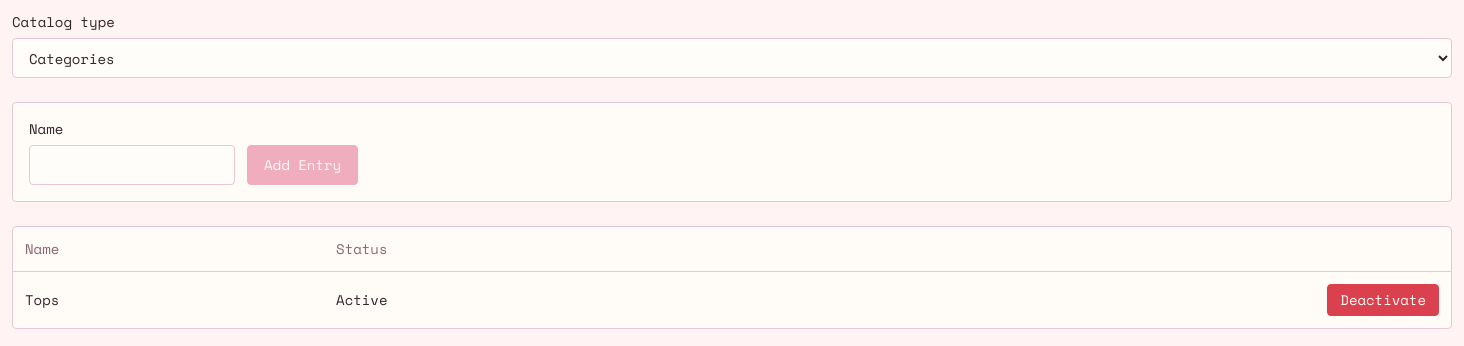
Test: CatalogManager › shows a parent-category select and requires it for Subcategories
The image size is (1464, 346).
Expected: the text "Tops" is shown, [13,272,324,328]
Select "Subcategories" in the dropdown labelled "Catalog type" at [732, 58], box [12,38,1452,78]
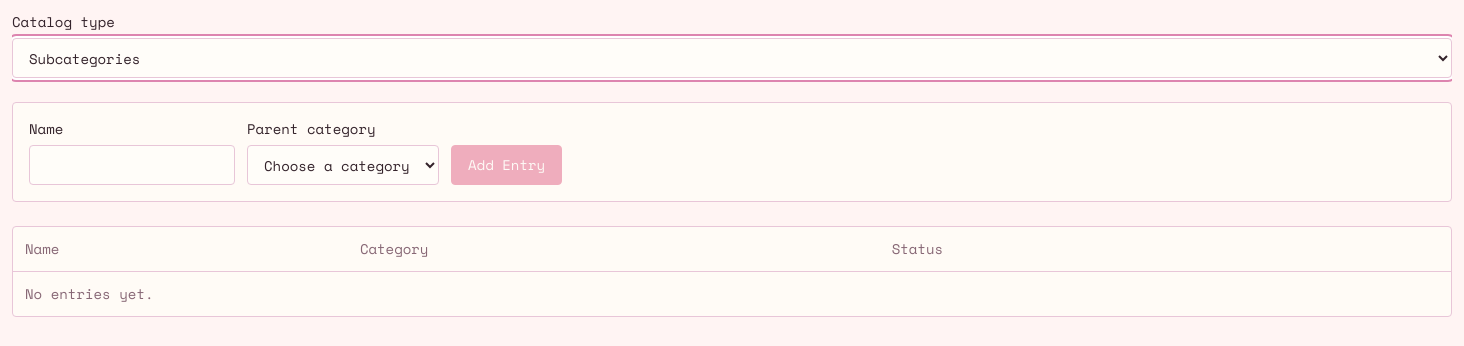
Expected: the button "Add Entry" is disabled, [451,145,562,185]
Now the dropdown labelled "Parent category" is shown, box [247,145,439,185]
